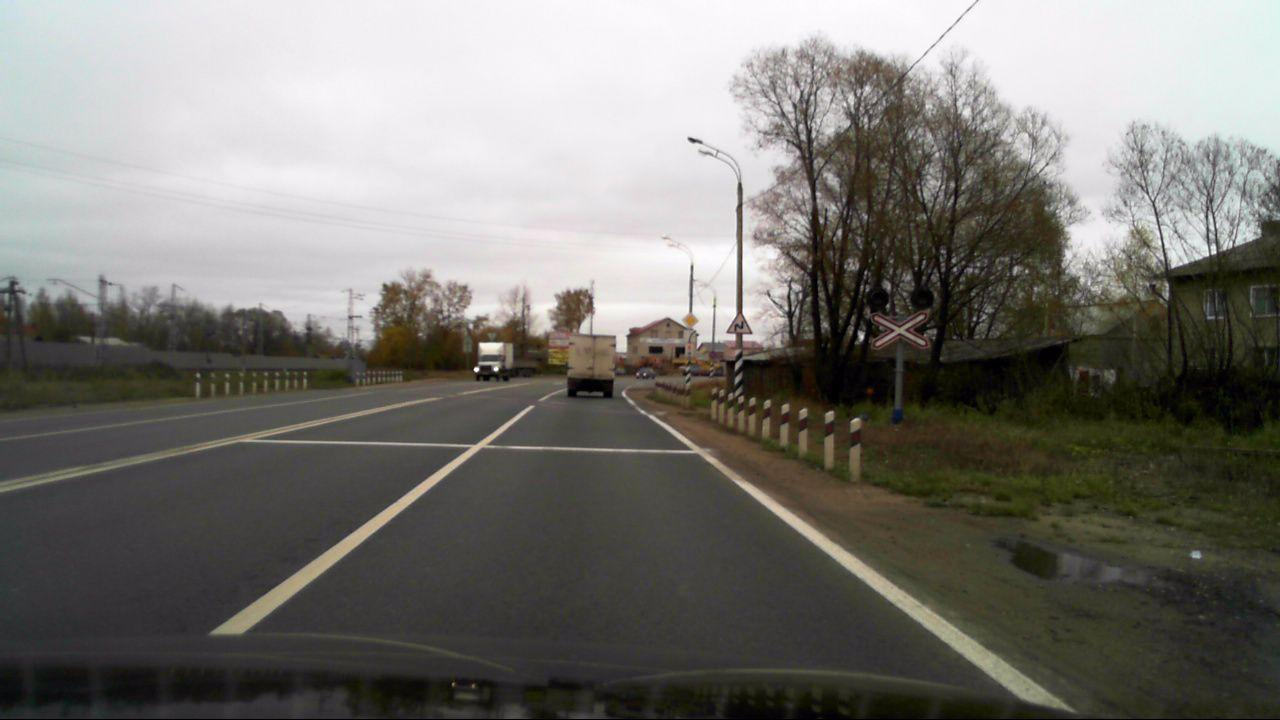road_sign: (723, 308, 756, 335)
